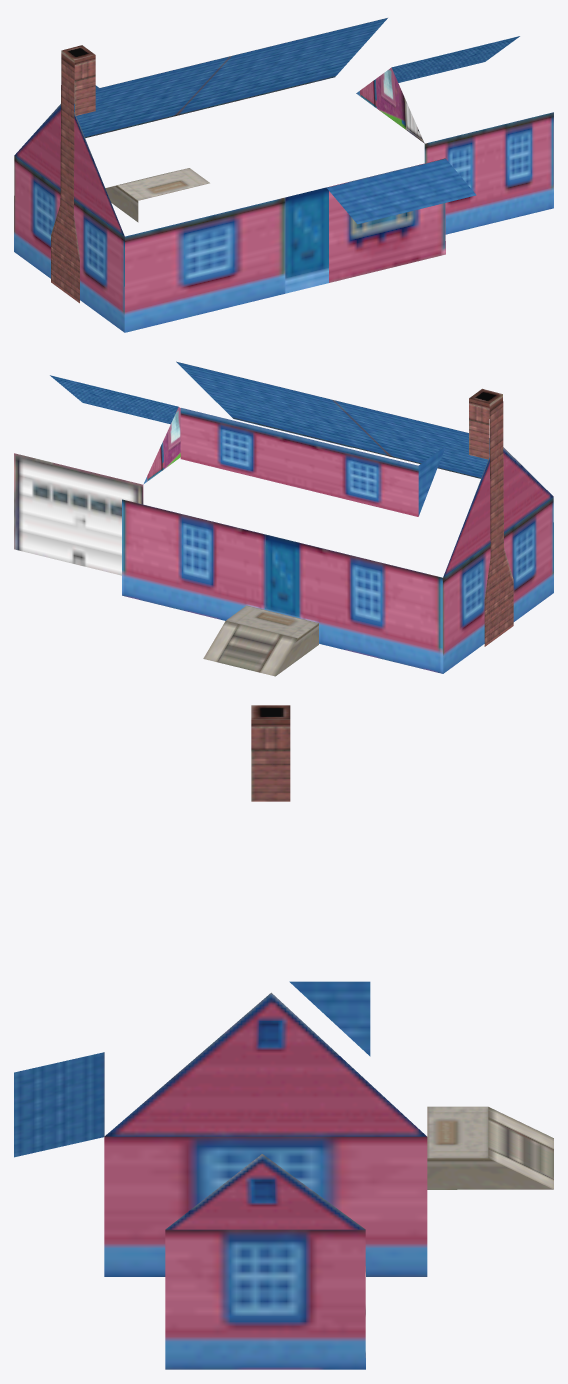
Rendered from jhouse01.glb.
The picture shows the model from 3 angles, top to bottom: view 1: azimuth 30°, elevation 25°; view 2: azimuth 150°, elevation 25°; view 3: azimuth 270°, elevation 25°; orthographic projection. The views are drawn at different scales.
Parts seen in each view (by area): view 1: jhouse01; view 2: jhouse01; view 3: jhouse01.
Boxes of the visible parts, x1,y1,x2,y2 form: jhouse01: (14,18,553,332); jhouse01: (14,361,553,676); jhouse01: (14,705,553,1369).
Bounding box in the file's own units: 2403 × 1203 × 1702.
3 materials, 3 textured.
